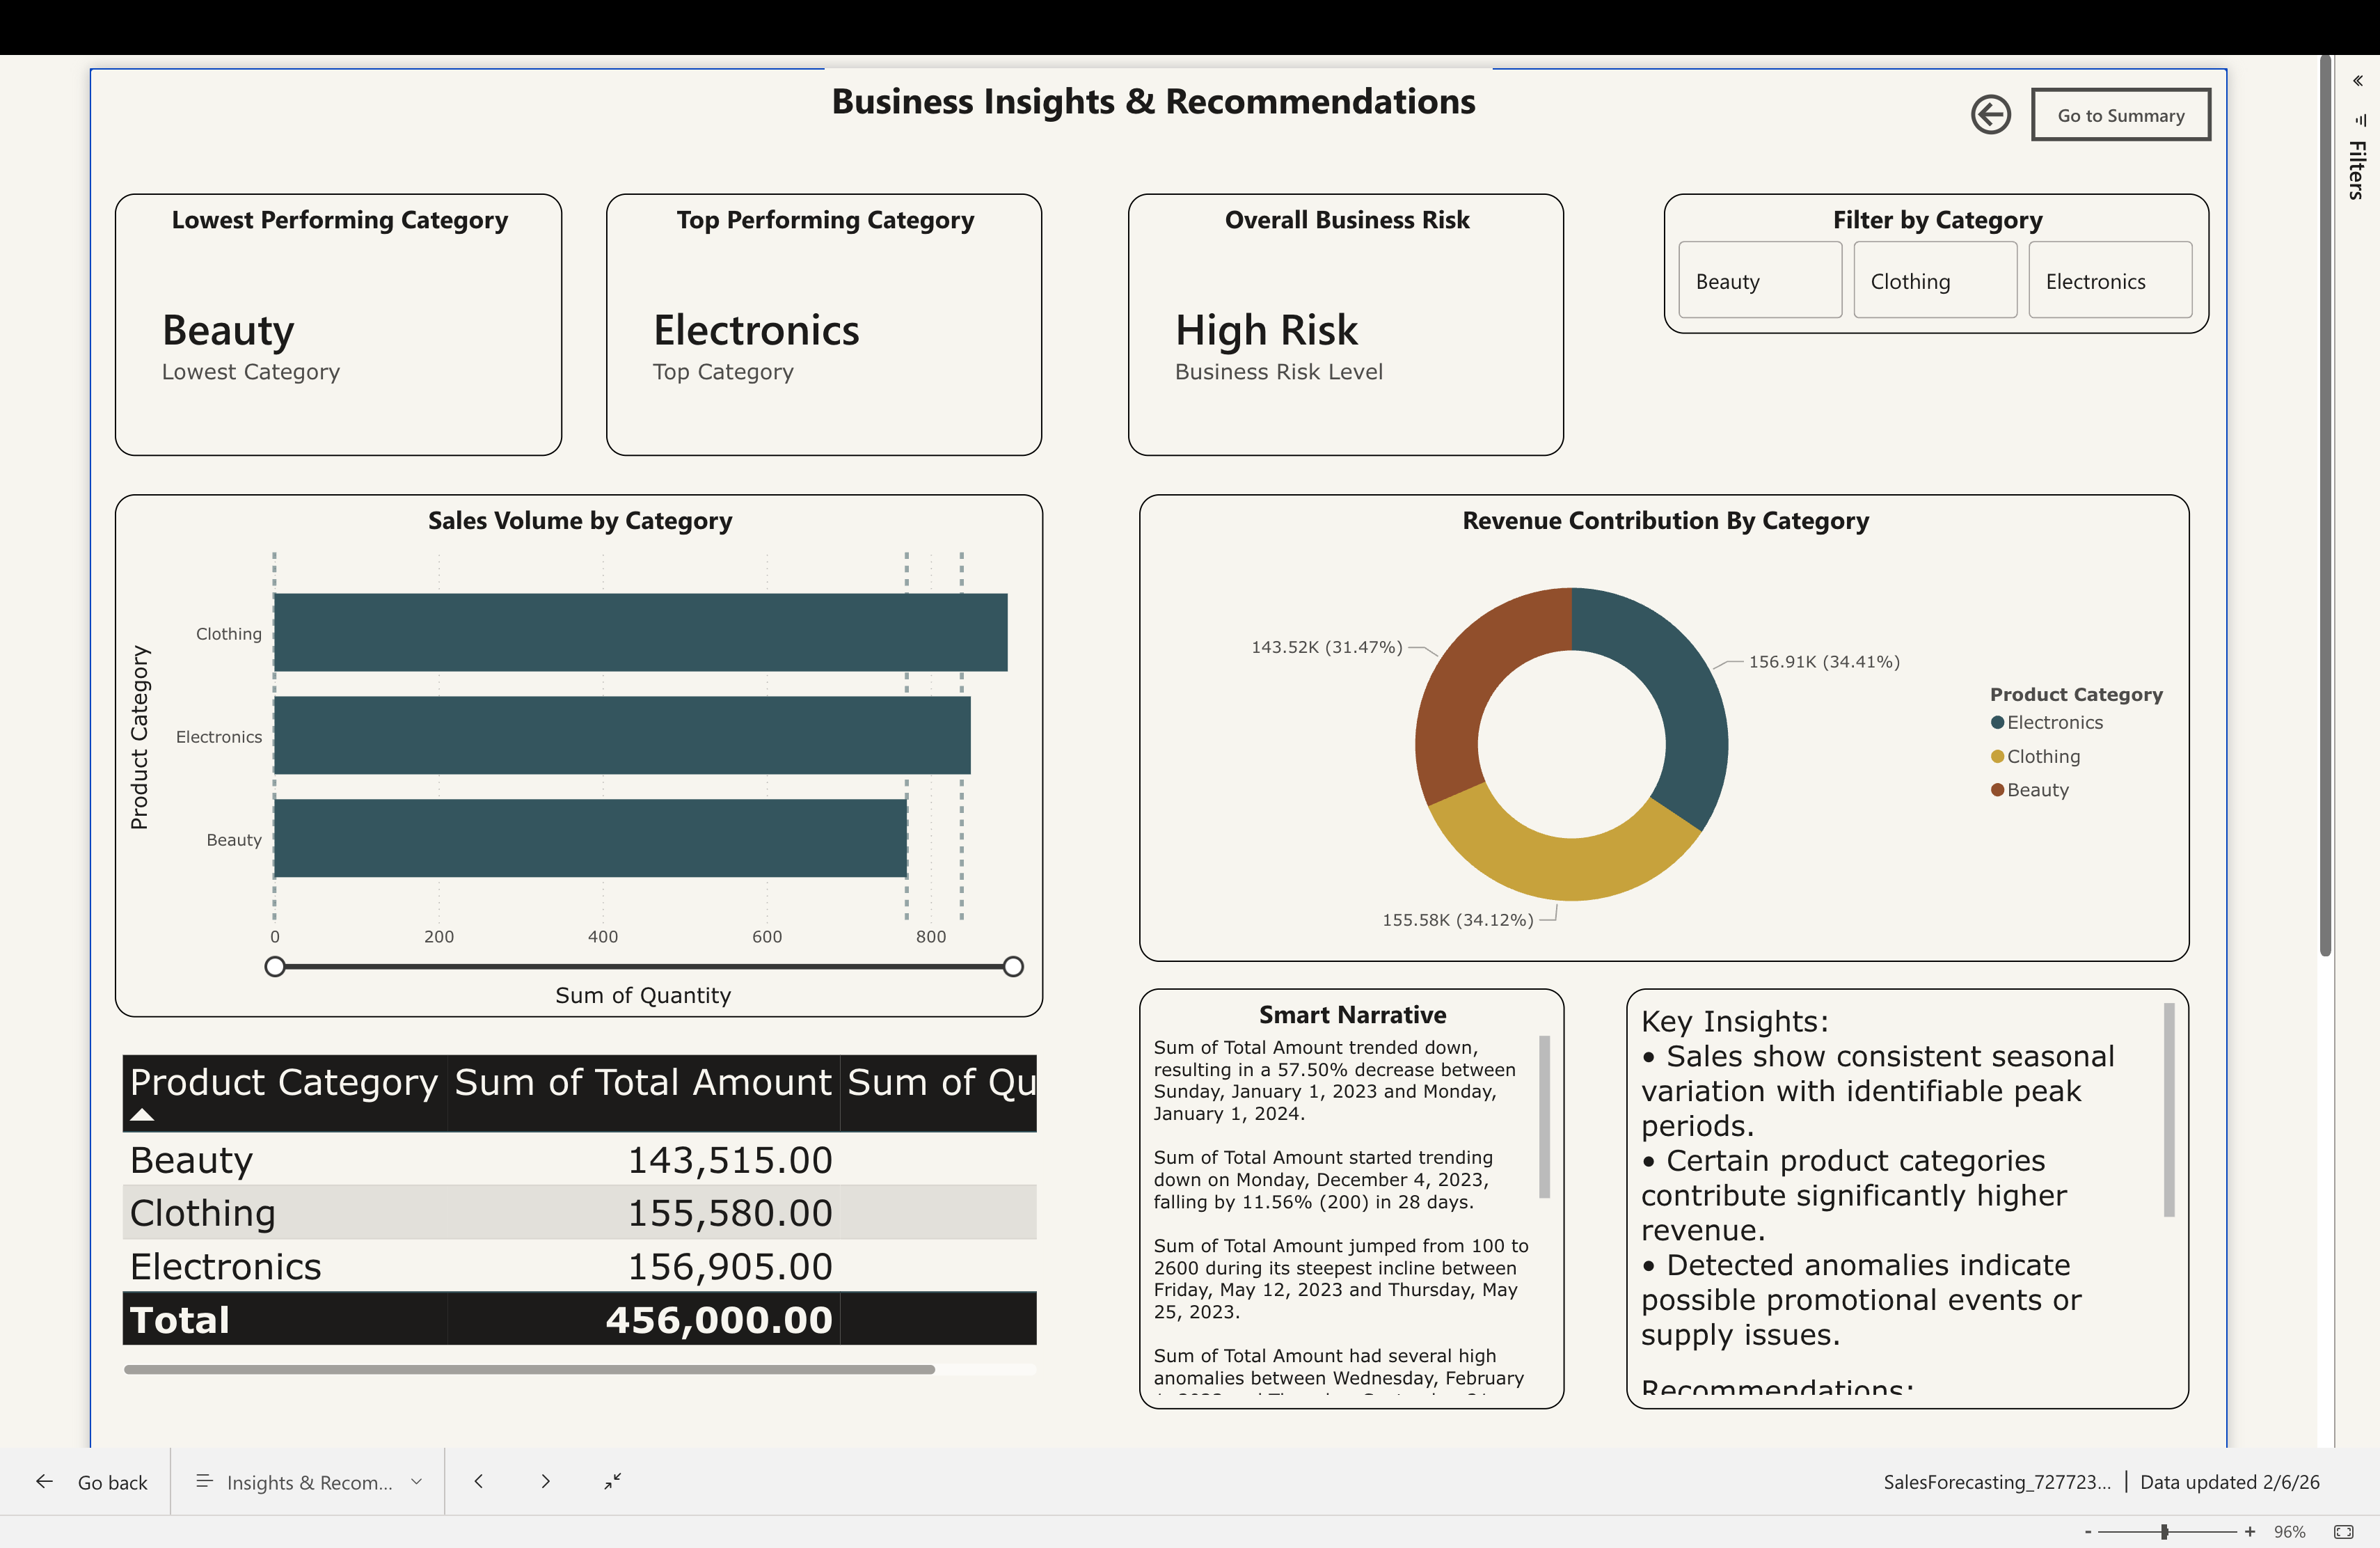

The dashboard page shown, as its layout file describes it:
{"tool":"powerbi","page":{"name":"Insights & Recommendation","canvas":[1600,1600],"ordinal":2},"visuals":[{"type":"textbox","box":[550,0,500,46.7],"z":0},{"type":"tableEx","fields":{"Values":["retail_sales_dataset.Product Category","Sum(retail_sales_dataset.Total Amount)","Sum(retail_sales_dataset.Quantity)"]},"box":[18.3,733.3,695,250],"z":1000},{"type":"cardVisual","title":"Lowest Performing Category","fields":{"Data":["retail_sales_dataset.Lowest Category"]},"box":[18.3,93.3,335,196.7],"z":2000},{"type":"cardVisual","title":"Top Performing Category","fields":{"Data":["retail_sales_dataset.Top Category"]},"box":[386.7,93.3,326.7,196.7],"z":3000},{"type":"textbox","box":[1150,688.3,421.7,315],"z":4000},{"type":"textbox","title":"Smart Narrative","box":[785,688.3,318.3,315],"z":5000},{"type":"donutChart","title":"Revenue Contribution By Category","fields":{"Category":["retail_sales_dataset.Product Category"],"Y":["Sum(retail_sales_dataset.Total Amount)"]},"box":[785,318.3,786.7,350],"z":6000},{"type":"advancedSlicerVisual","title":"Filter by Category","fields":{"Values":["retail_sales_dataset.Product Category"]},"box":[1178.3,93.3,408.3,105],"z":7000},{"type":"clusteredBarChart","title":"Sales Volume by Category","fields":{"Category":["retail_sales_dataset.Product Category"],"Y":["Sum(retail_sales_dataset.Quantity)"]},"box":[18.3,318.3,695,391.7],"z":8000},{"type":"cardVisual","title":"Overall Business Risk","fields":{"Data":["retail_sales_dataset.Business Risk Level"]},"box":[776.7,93.3,326.7,196.7],"z":9000},{"type":"actionButton","box":[1453.3,15,135,40],"z":10000},{"type":"actionButton","box":[1403.3,15,50,40],"z":11000}]}

Visuals, with their boxes on the page's 1600x1600 design canvas (x1, y1, x2, y2). These are canvas units, not pixel positions in the 2380x1548 screenshot, which may show the page scaled, cropped or inside an application window:
textbox: <region>550, 0, 1050, 47</region>
tableEx - retail_sales_dataset.Product Category x Sum(retail_sales_dataset.Total Amount): <region>18, 733, 713, 983</region>
"Lowest Performing Category" cardVisual: <region>18, 93, 353, 290</region>
"Top Performing Category" cardVisual: <region>387, 93, 713, 290</region>
textbox: <region>1150, 688, 1572, 1003</region>
"Smart Narrative" textbox: <region>785, 688, 1103, 1003</region>
"Revenue Contribution By Category" donutChart: <region>785, 318, 1572, 668</region>
"Filter by Category" advancedSlicerVisual: <region>1178, 93, 1587, 198</region>
"Sales Volume by Category" clusteredBarChart: <region>18, 318, 713, 710</region>
"Overall Business Risk" cardVisual: <region>777, 93, 1103, 290</region>
actionButton: <region>1453, 15, 1588, 55</region>
actionButton: <region>1403, 15, 1453, 55</region>
